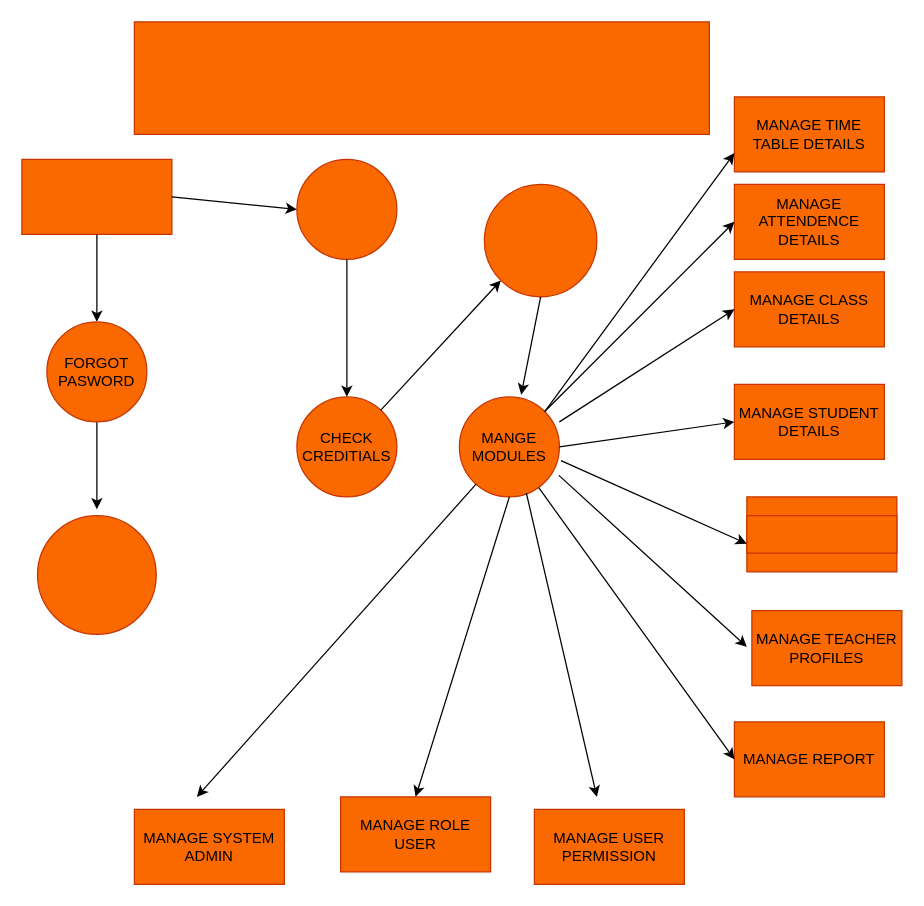
The diagram is 924 pixels wide and 906 high, and some of its shapes have lost their labels. The shapes that lost their labels are listed below. From the top down, each one's centre as x and y in pixels, then its label:
(x=421, y=77): STUDENT INFO SYSYTEM
(x=96, y=196): ADMIN
(x=346, y=208): LOGIN TO SYSYTEM
(x=540, y=240): CHECK ROLE OF ACCES
(x=821, y=533): MANAGE FEE DETAILS
(x=96, y=574): SEND EMAIL TO USER
